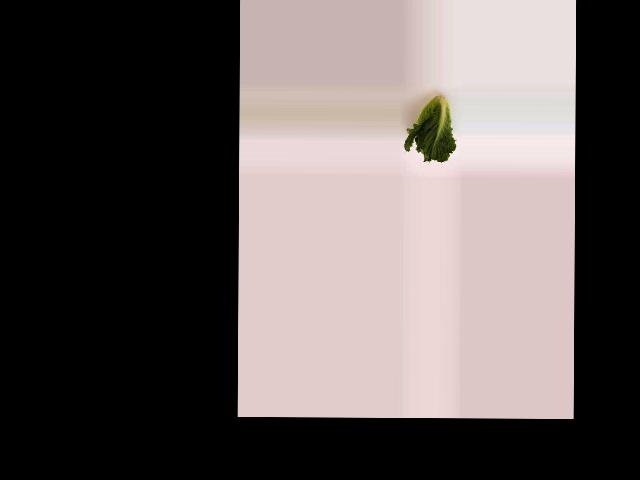lettuce: (406, 87, 457, 164)
